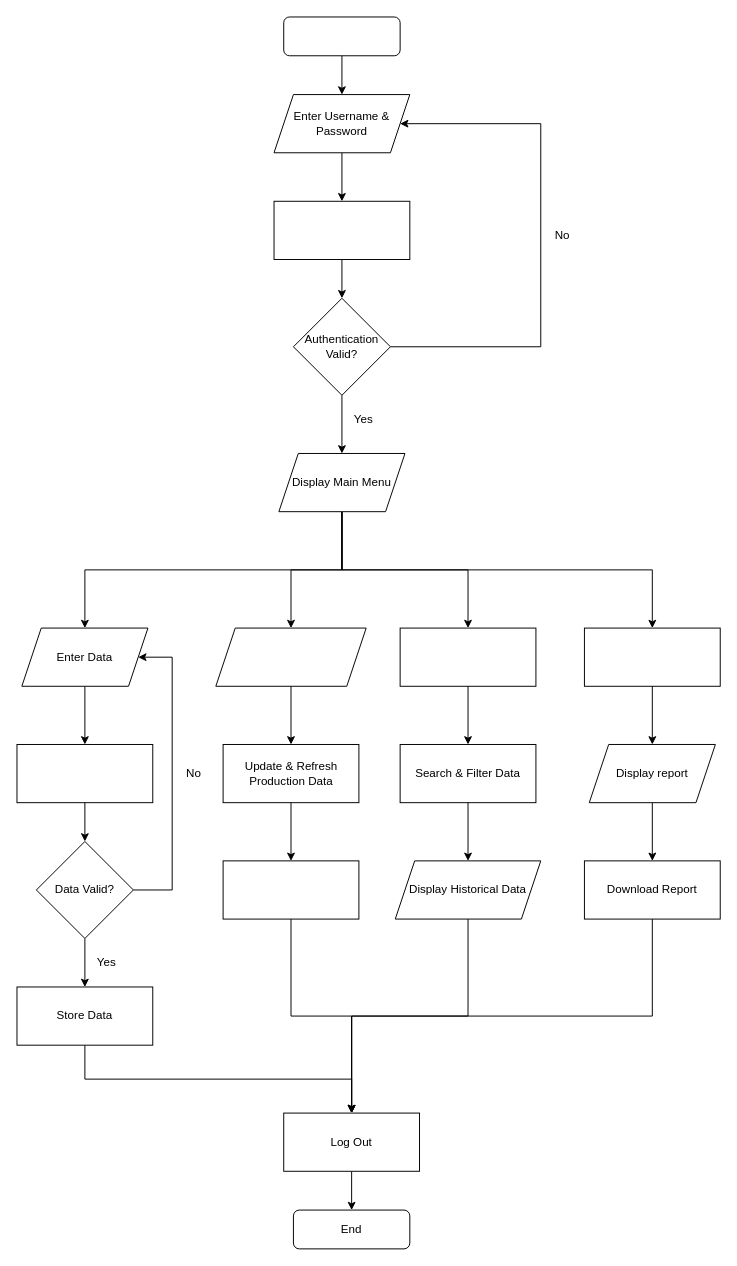
Some shapes in this 737 by 1266 pixel diagram are drawn without their labels. The shapes that lost their labels are listed below. From the top down, each one's centre as x and y in pixels, then its label:
(341,36): Start
(341,229): Authenticate Account
(290,656): Display Real-Time Production Dashboard
(467,656): Retrieve Historical Data
(651,656): Generate Report
(84,773): Validate Data
(290,889): Notify User (If Issue Detected)
